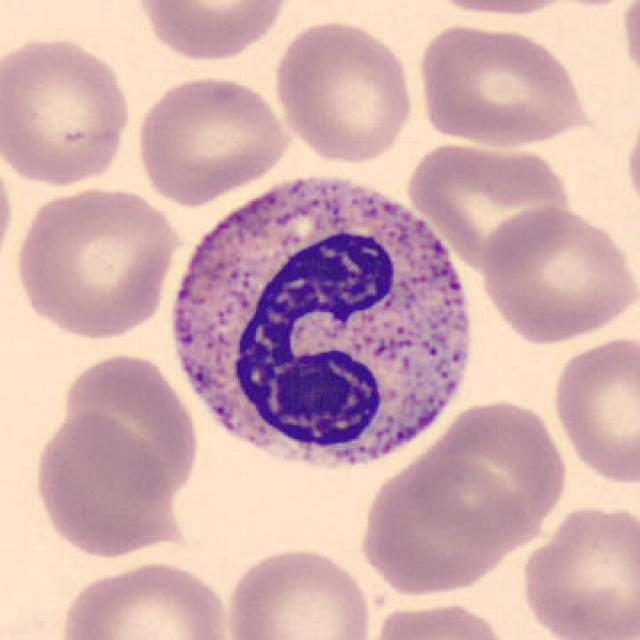Neutrophil: (162, 157, 484, 490)
RBC: (11, 182, 183, 342), (356, 453, 528, 598), (52, 349, 205, 503), (404, 138, 574, 274), (420, 392, 570, 546), (476, 202, 636, 346), (28, 407, 176, 561), (412, 21, 588, 148), (270, 16, 418, 166), (132, 70, 294, 206), (0, 32, 137, 190), (518, 499, 638, 640), (220, 541, 377, 640), (55, 557, 235, 640), (548, 332, 638, 486), (129, 0, 295, 63), (366, 597, 513, 640), (414, 0, 584, 19), (0, 140, 18, 280), (622, 100, 640, 231), (617, 0, 640, 97)
